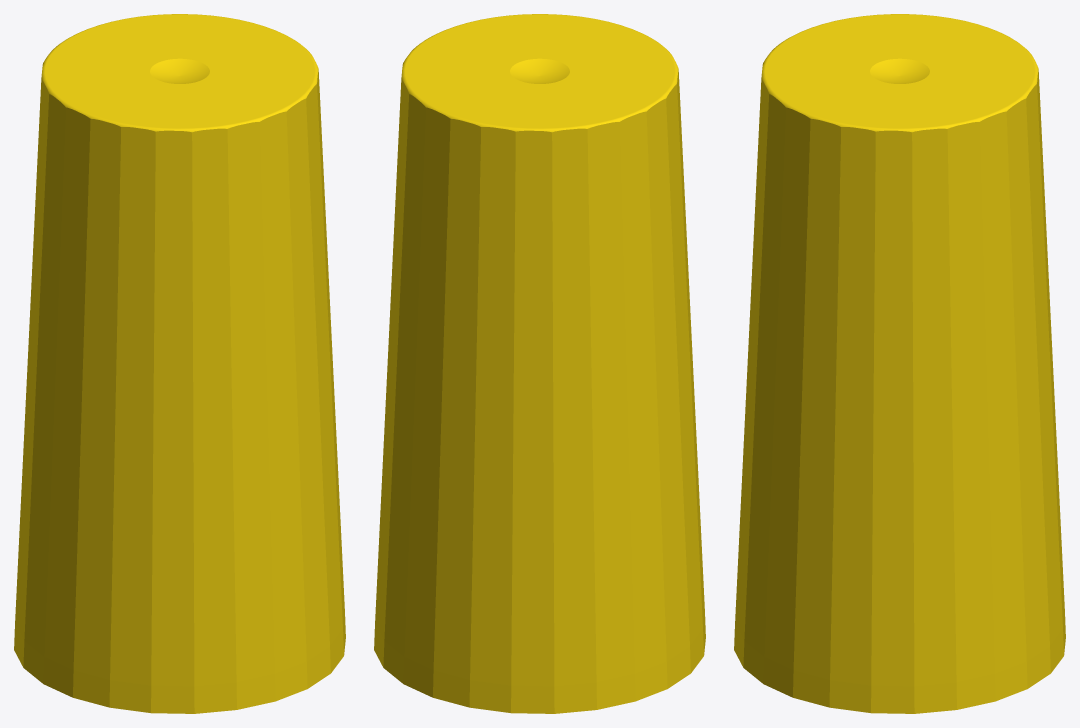
The model's file is Customized_model_for_L1L2_Helix_20190529_1.gltf.
3 renders of one model, left to right at view 1: azimuth 30°, elevation 25°; view 2: azimuth 150°, elevation 25°; view 3: azimuth 270°, elevation 25°, orthographic.
Parts seen in each view (by area): view 1: mesh7382, mesh7372, mesh7373, mesh7371, mesh7374, mesh7370, mesh7375, mesh7369, mesh7376, mesh7367, mesh7377, mesh7366 (+13 smaller); view 2: mesh7382, mesh7363, mesh7364, mesh7362, mesh7365, mesh7361, mesh7366, mesh7360, mesh7367, mesh7359, mesh7369, mesh7358 (+13 smaller); view 3: mesh7382, mesh7368, mesh7356, mesh7379, mesh7357, mesh7378, mesh7358, mesh7377, mesh7359, mesh7376, mesh7360, mesh7375 (+14 smaller).
Boxes of the visible parts, x1,y1,x2,y2 form: mesh7382: (45,14,314,128); mesh7372: (151,130,194,686); mesh7373: (192,128,236,686); mesh7371: (110,127,155,685); mesh7374: (227,122,274,682); mesh7370: (73,119,121,679); mesh7375: (260,111,306,673); mesh7369: (44,107,90,669); mesh7376: (286,98,329,661); mesh7367: (24,94,65,656); mesh7377: (306,84,342,645); mesh7366: (15,79,49,639); mesh7382: (405,14,674,128); mesh7363: (511,130,554,686); mesh7364: (552,128,596,686); mesh7362: (470,127,515,685); mesh7365: (587,122,634,682); mesh7361: (433,119,481,679); mesh7366: (620,111,666,673); mesh7360: (404,107,450,669); mesh7367: (646,98,689,661); mesh7359: (384,94,425,656); mesh7369: (666,84,702,645); mesh7358: (375,79,409,639); mesh7382: (765,14,1034,128); mesh7368: (871,130,914,686); mesh7356: (912,128,956,686); mesh7379: (830,127,875,685); mesh7357: (947,122,994,682); mesh7378: (793,119,841,679); mesh7358: (980,111,1026,673); mesh7377: (764,107,810,669); mesh7359: (1006,98,1049,661); mesh7376: (744,94,785,656); mesh7360: (1026,84,1062,645); mesh7375: (735,79,769,639).
Bounding box in the file's own units: 0.0332 × 0.0632 × 0.0332.
